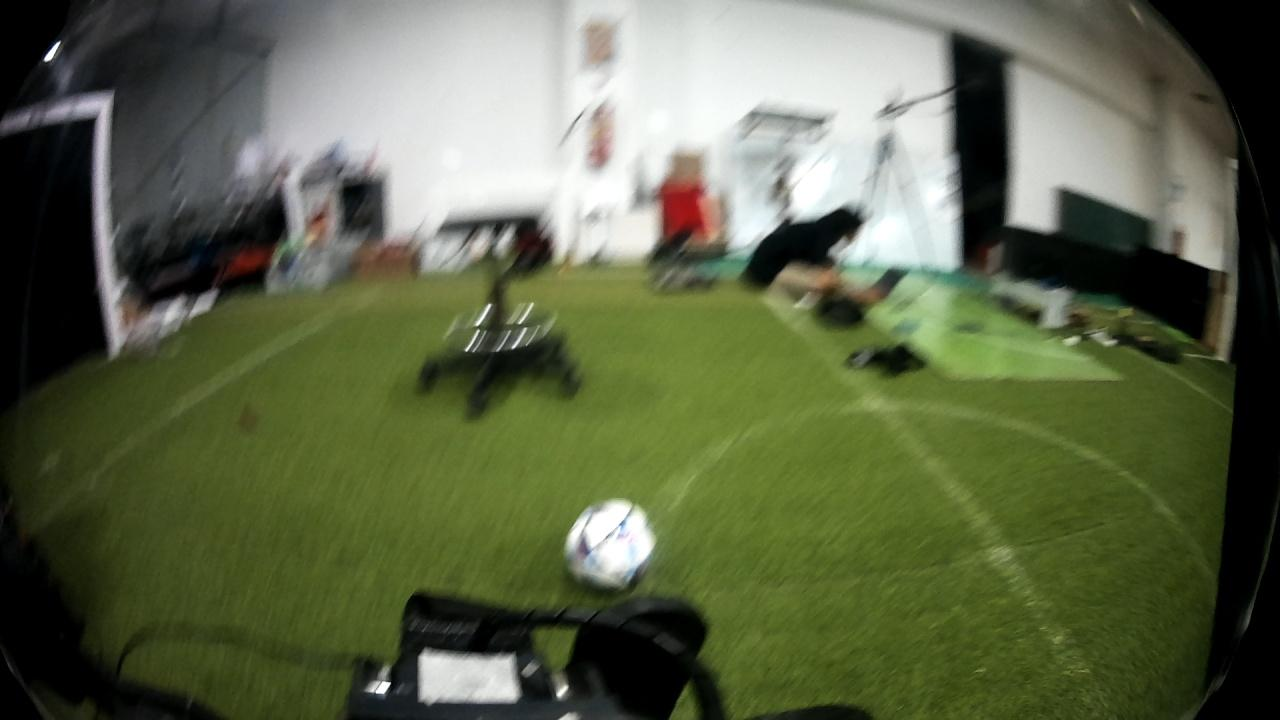ball: (554, 487, 665, 600)
